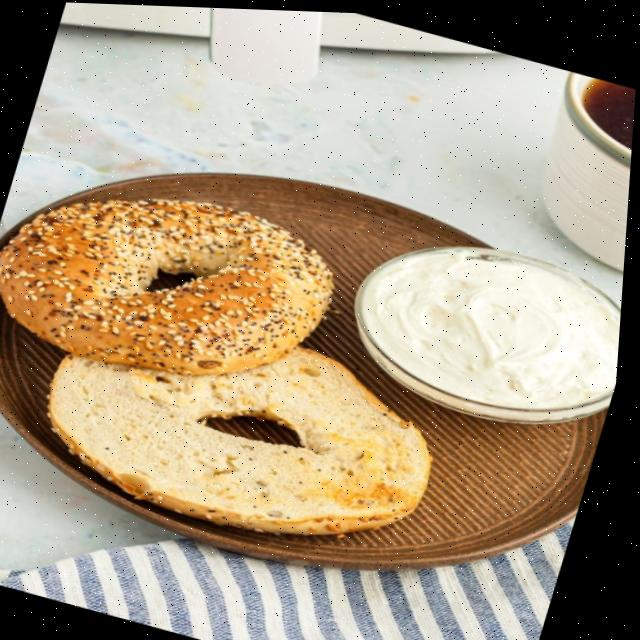Bagel: (54, 345, 437, 532), (0, 197, 337, 373)
